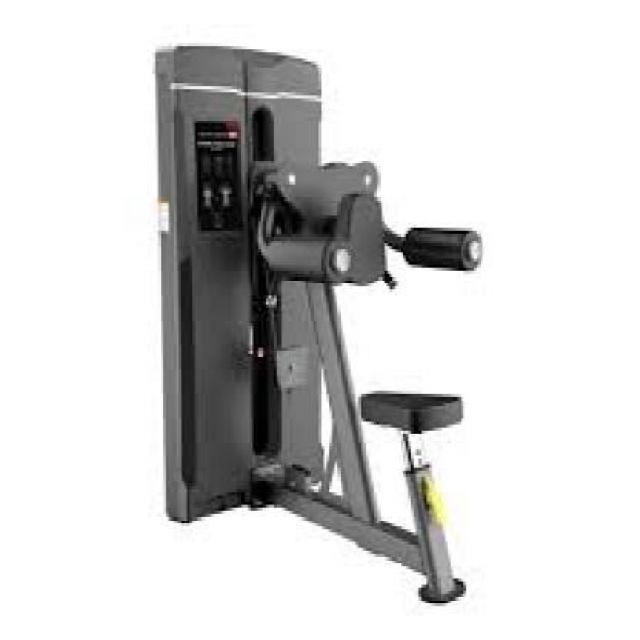lateral raises machine: (154, 45, 483, 609)
